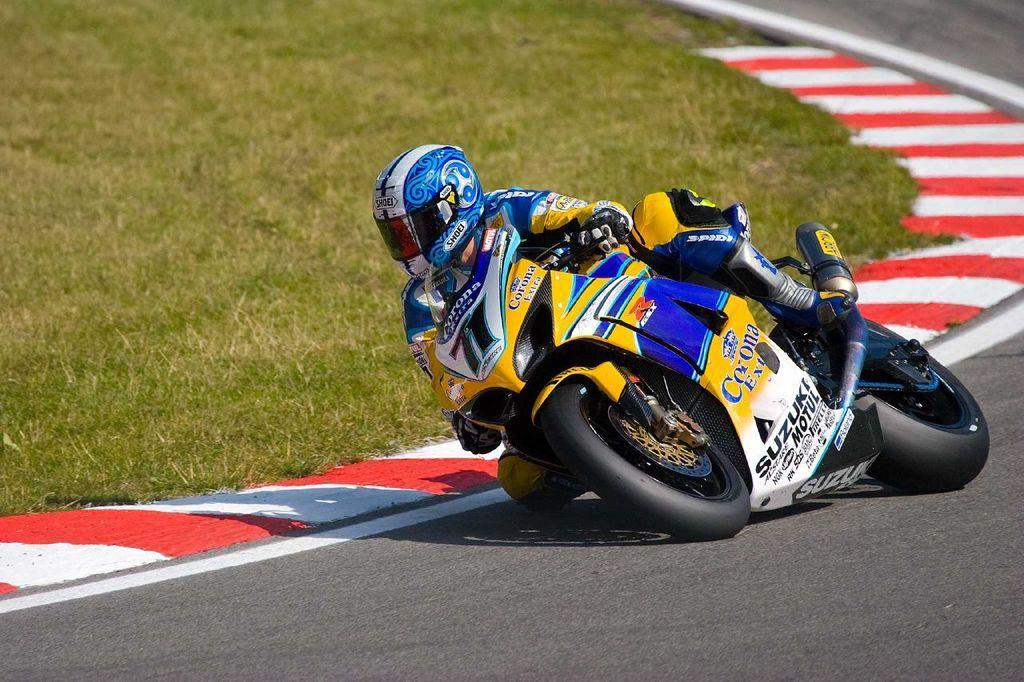helmet: (371, 142, 487, 282)
